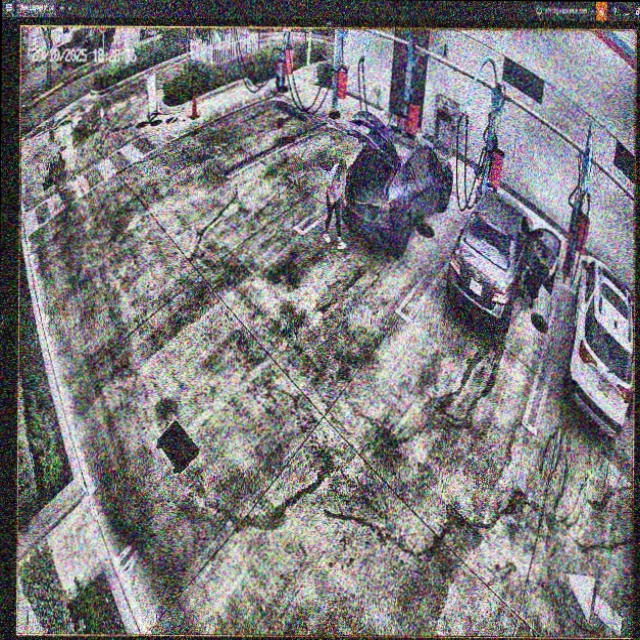Car: (343, 110, 454, 250), (447, 192, 556, 323)
